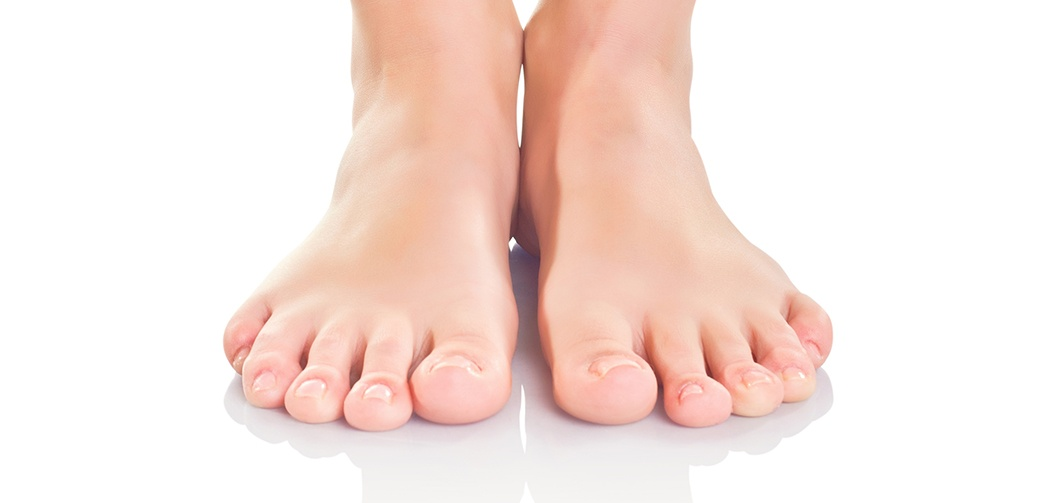feet: (486, 0, 837, 429), (181, 0, 523, 431)
